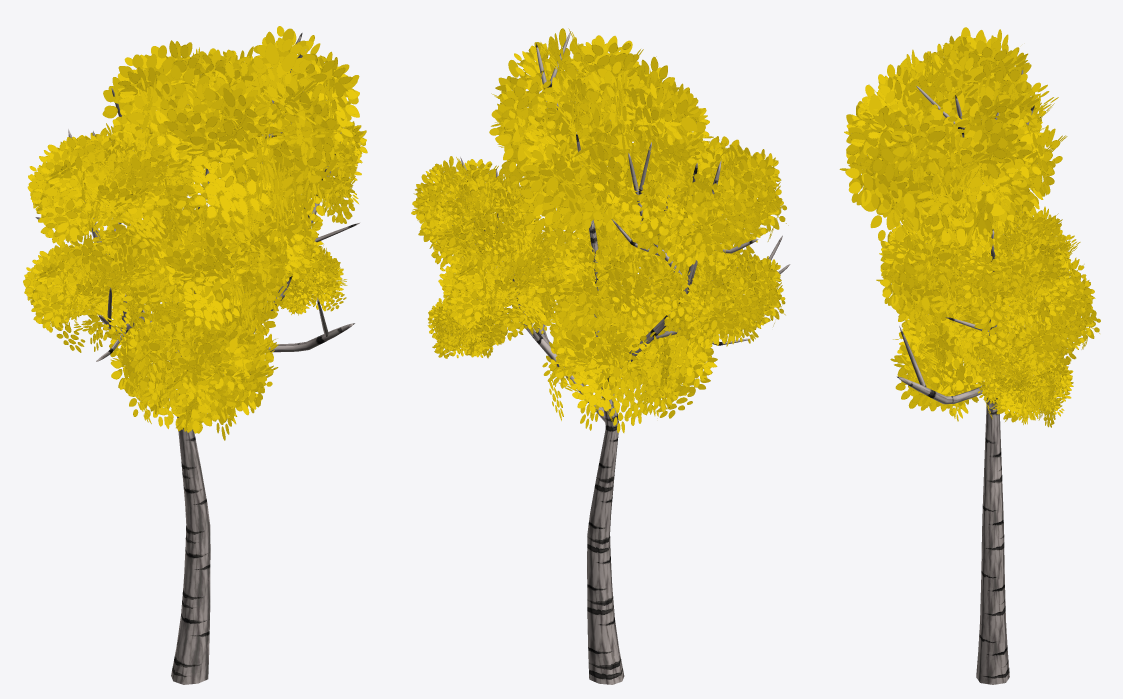
The model's file is BirchTree_3.glb.
3 renders of one model, left to right at view 1: azimuth 30°, elevation 25°; view 2: azimuth 150°, elevation 25°; view 3: azimuth 270°, elevation 25°, orthographic. The views are drawn at different scales.
Bounding box in the file's own units: 3.43 × 5.75 × 2.27.
2 materials, 2 textured.
